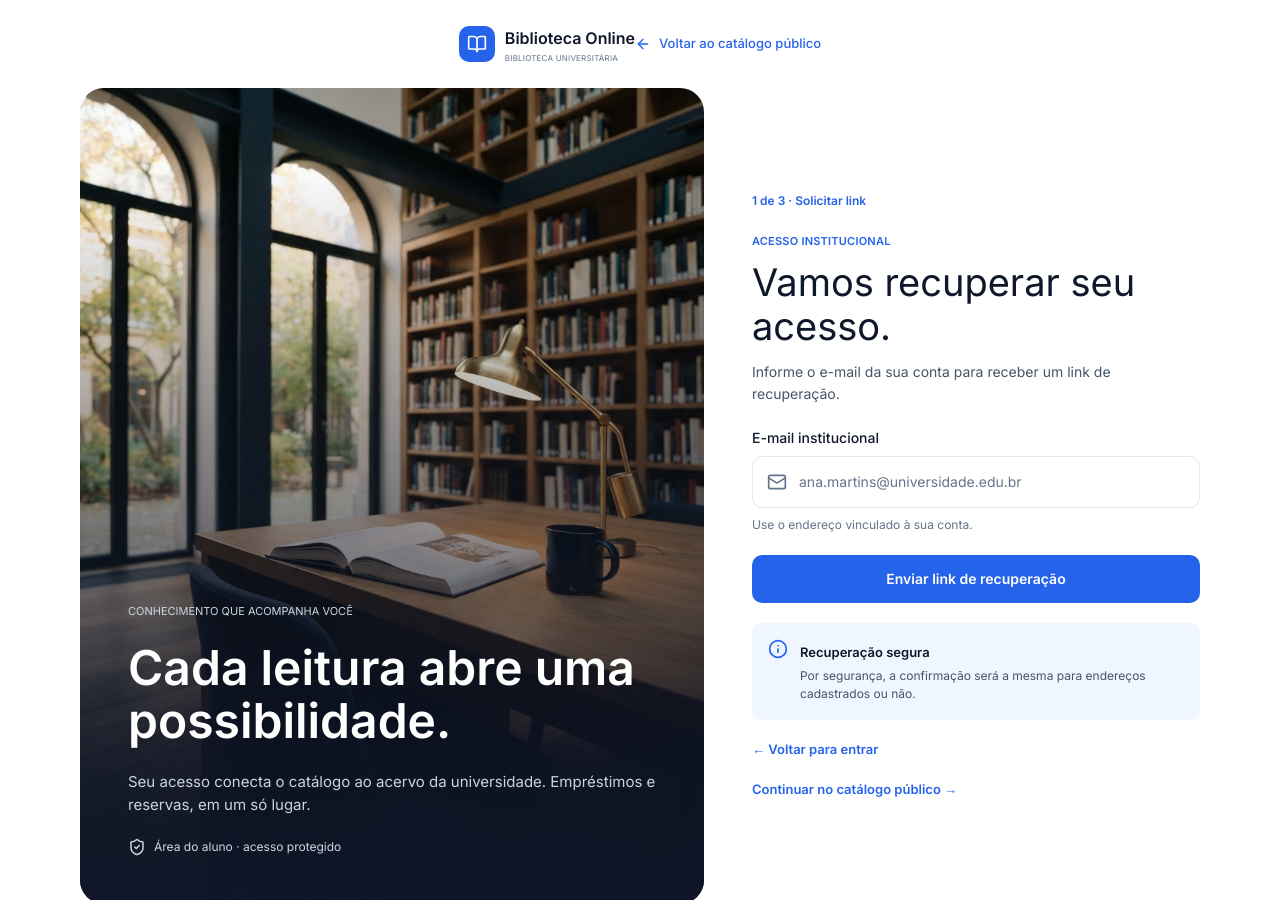
Test case: mostra falha ao solicitar recuperação
The image size is (1280, 900).
Type "ana@example.com" into the field labelled "E-mail institucional Use o endereço vinculado à sua conta." at (992, 482), box [799,472,1185,492]
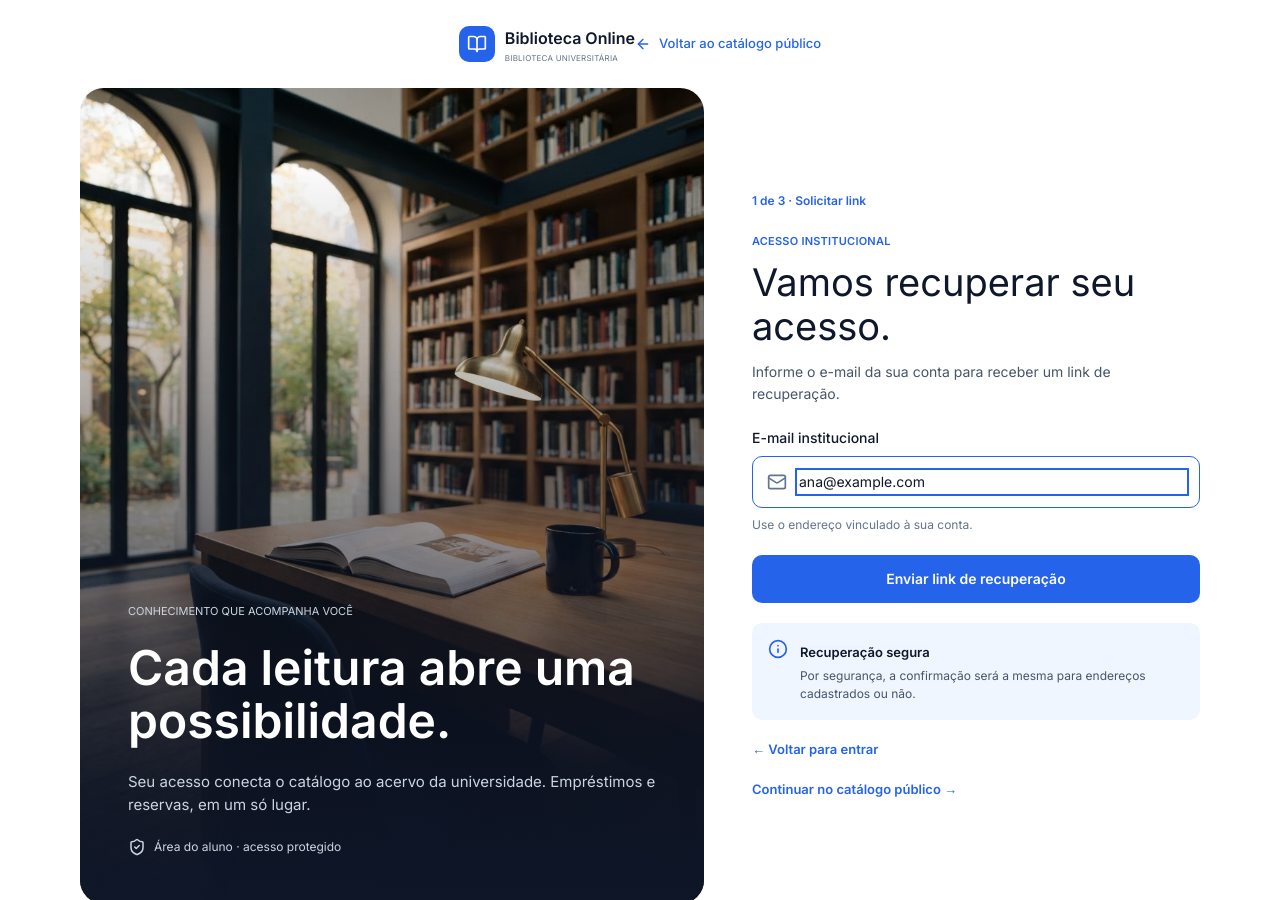
Click the button "Enviar link de recuperação" at (976, 579), box [752,555,1200,603]
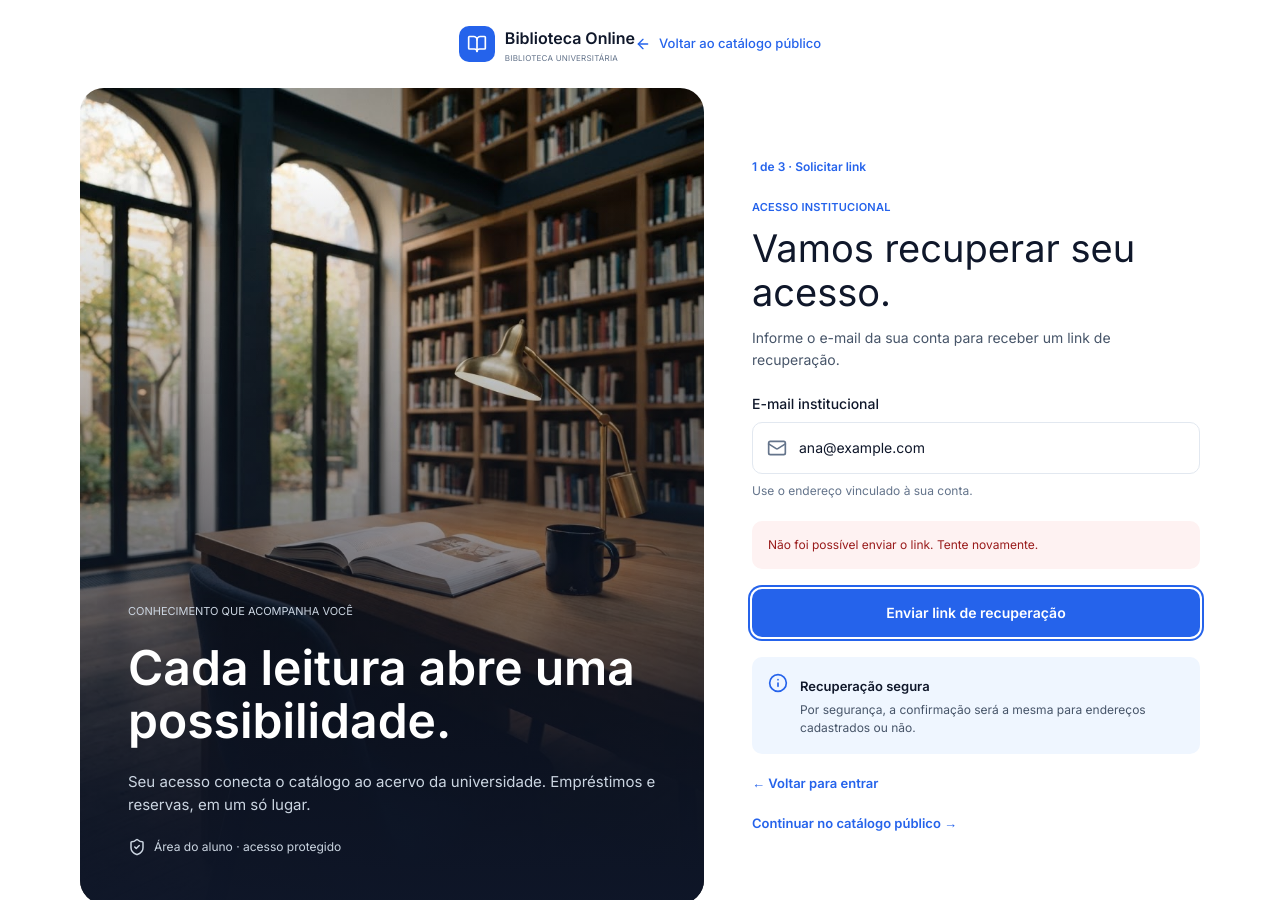
Result: the message shows "Não foi possível" at [768,537,1038,552]
